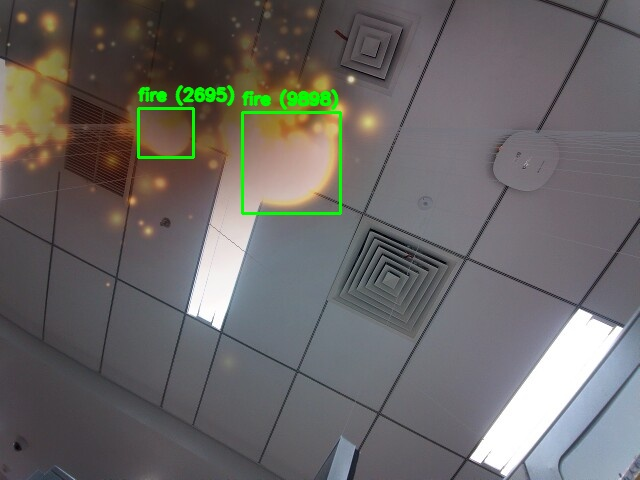fire: (242, 112, 340, 213), (138, 108, 193, 157)
